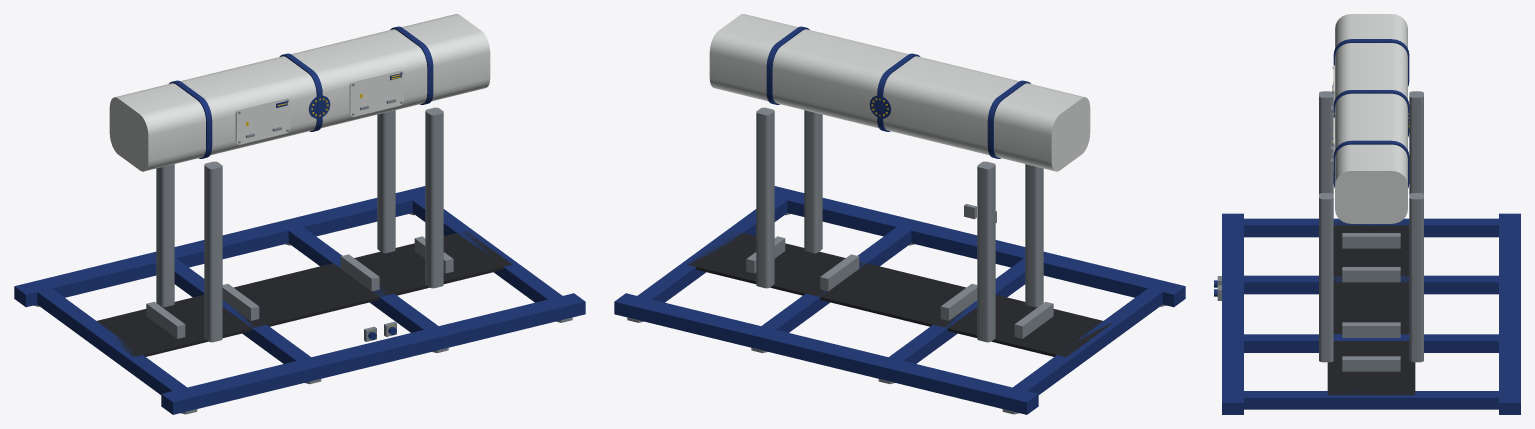
Rendered from l200_frame.obj.
3 views of the same model, side by side, from view 1: azimuth 30°, elevation 25°; view 2: azimuth 150°, elevation 25°; view 3: azimuth 270°, elevation 25° (orthographic). The views are drawn at different scales.
Parts seen in each view (by area): view 1: l200_frame; view 2: l200_frame; view 3: l200_frame.
Boxes of the visible parts, left/top/right/bottom form: l200_frame: left=14, top=14, right=585, bottom=414; l200_frame: left=614, top=14, right=1185, bottom=414; l200_frame: left=1214, top=14, right=1520, bottom=414.
Bounding box in the file's own units: 6.16 × 3.51 × 4.21.
